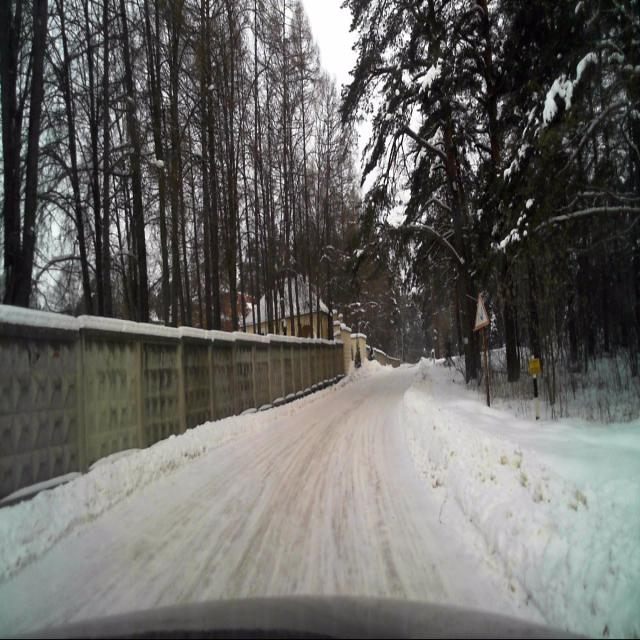road sign: (474, 292, 490, 332)
